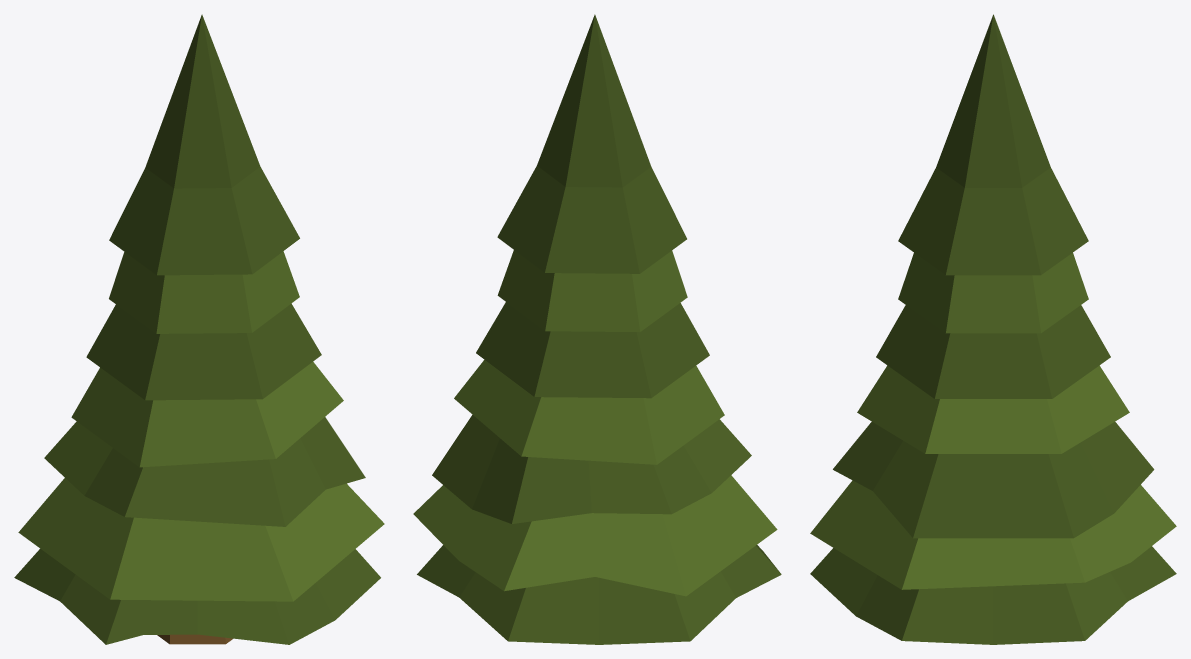
File: Tree3.fbx
3 renders of one model, left to right at view 1: azimuth 30°, elevation 25°; view 2: azimuth 150°, elevation 25°; view 3: azimuth 270°, elevation 25°, orthographic.
Parts seen in each view (by area): view 1: Tree3; view 2: Tree3; view 3: Tree3.
Boxes of the visible parts, x1,y1,x2,y2 form: Tree3: [14, 14, 384, 644]; Tree3: [413, 14, 781, 644]; Tree3: [810, 14, 1176, 644].
Size of the model in its own units: 459 by 956 by 523.
